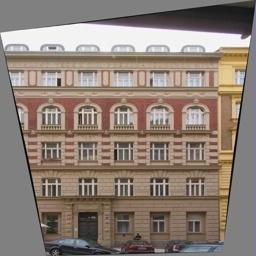building: (36, 37, 222, 256)
